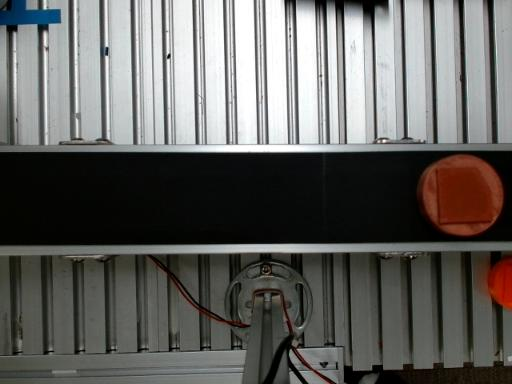Brown_Waper: (416, 154, 505, 237)
Not_Square: (436, 166, 494, 224)
